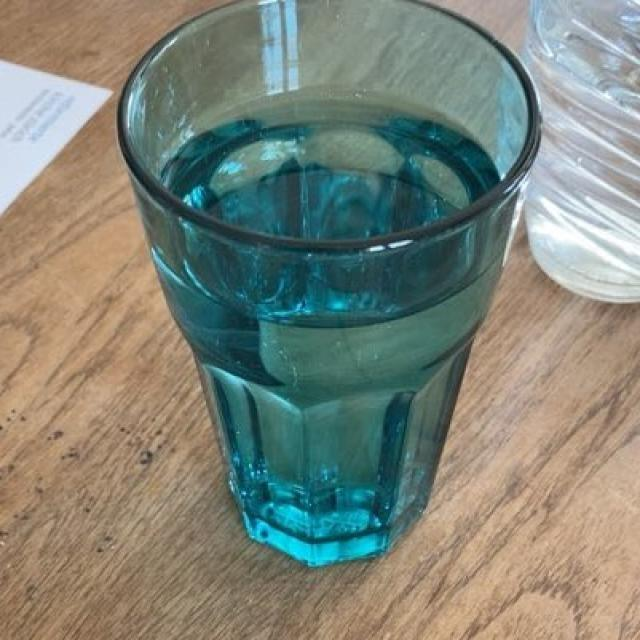water: (167, 105, 506, 535)
